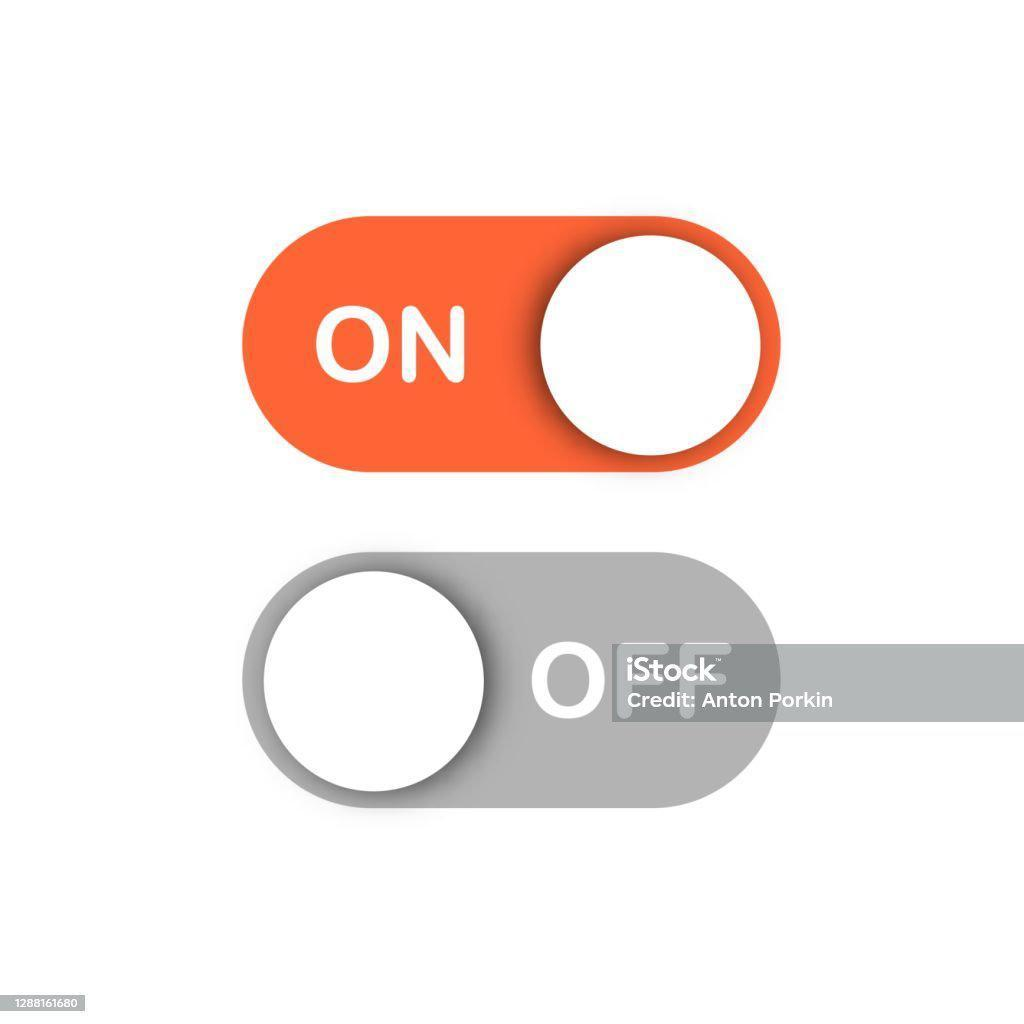switch: (238, 550, 782, 821), (242, 208, 780, 480)
